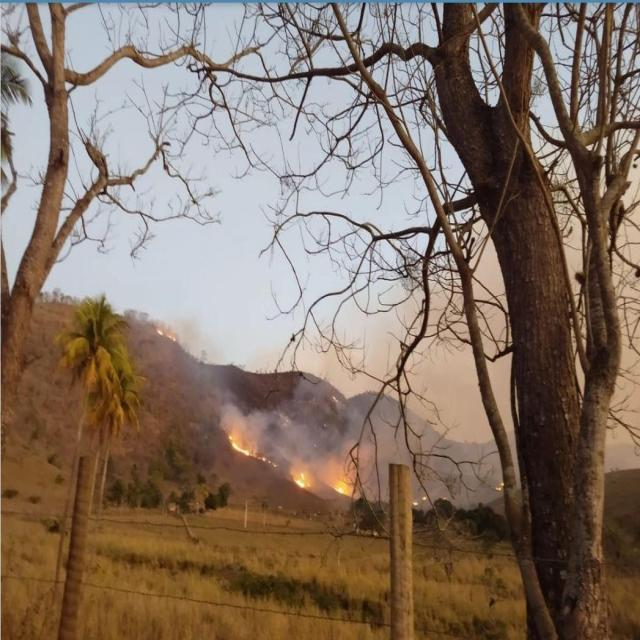Fire: (225, 428, 275, 468), (154, 324, 180, 344), (292, 472, 308, 488), (333, 482, 350, 496), (414, 490, 426, 506), (493, 477, 505, 492)
